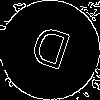D: (25, 25, 73, 80)
